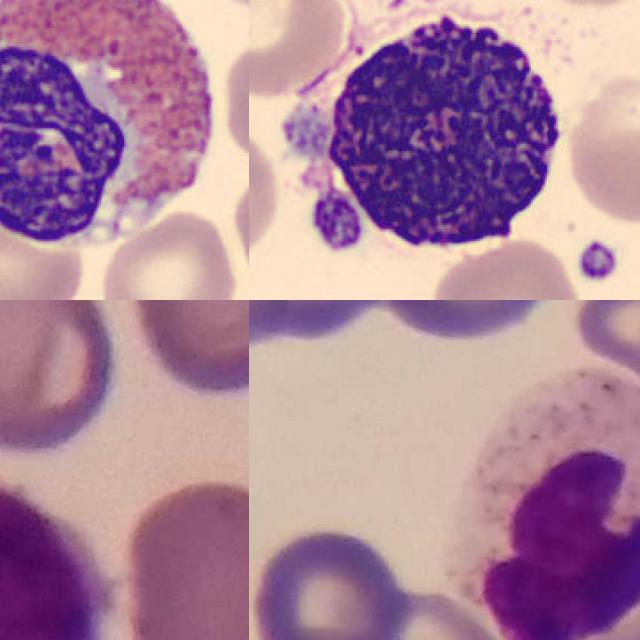Basophil: (269, 0, 575, 280)
Eosinophil: (0, 0, 232, 262)
Lymphocyte: (0, 474, 111, 640)
Neutrophil: (448, 371, 640, 640)
Platelets: (572, 237, 622, 287)
RBC: (95, 209, 241, 300), (563, 66, 640, 226), (424, 232, 587, 300), (249, 0, 351, 101), (249, 121, 284, 262), (216, 33, 249, 163)
